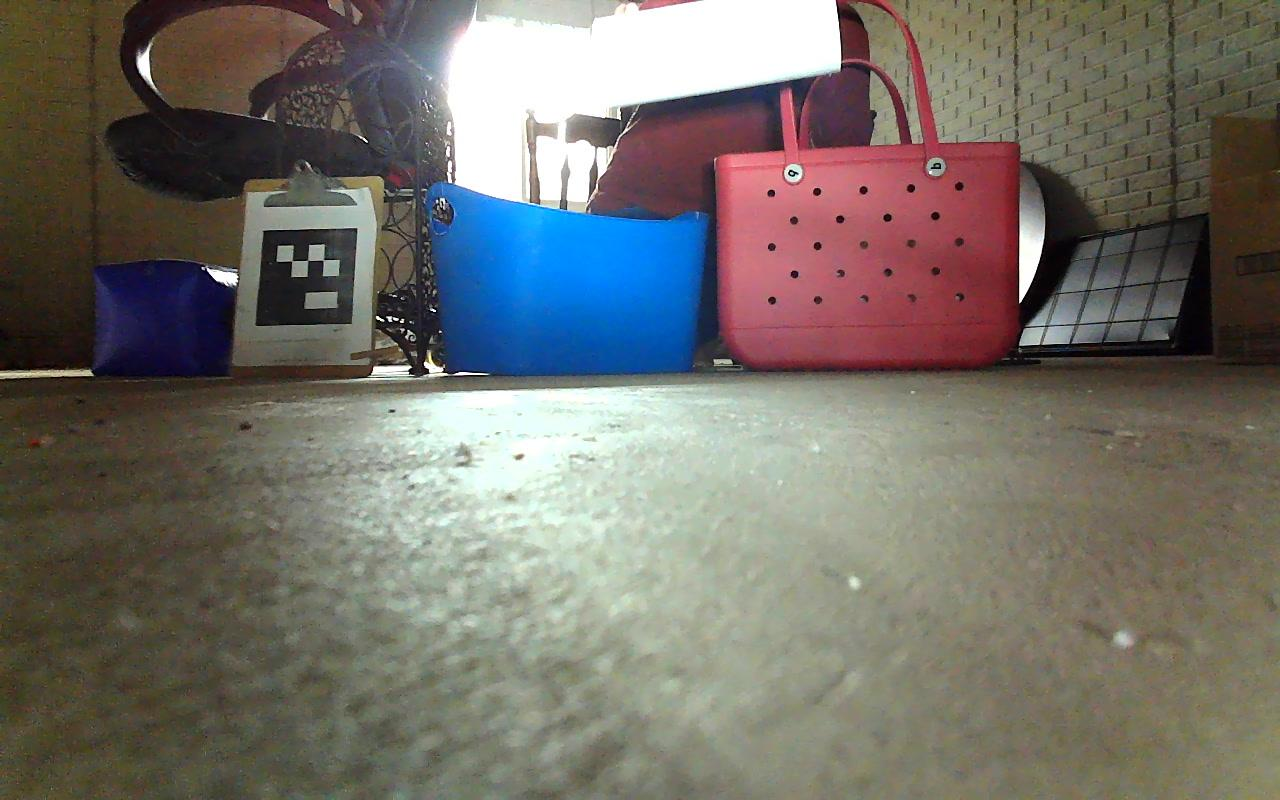coral: (584, 0, 845, 118)
